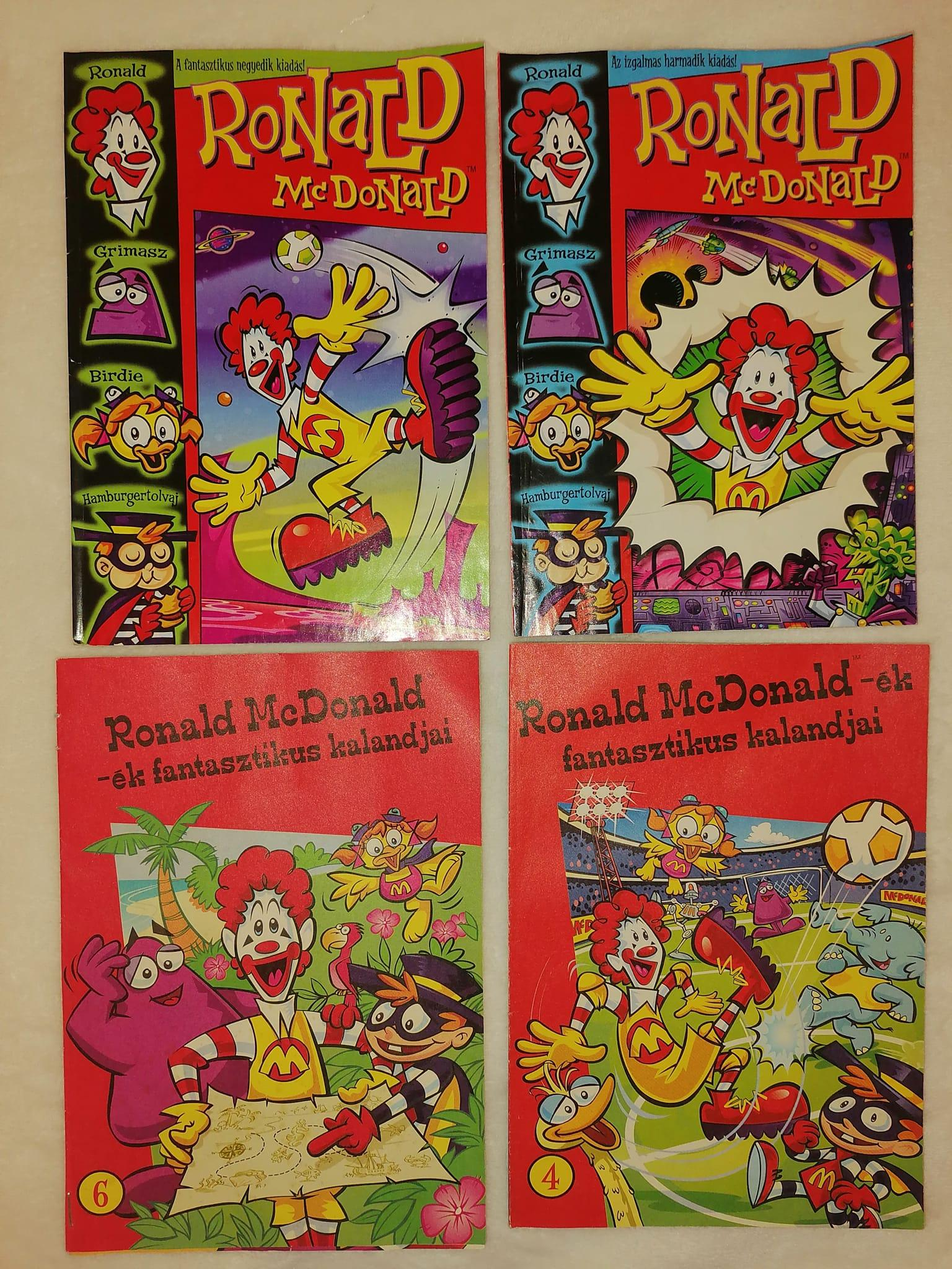comic: (64, 45, 493, 647), (58, 650, 485, 1253), (499, 38, 926, 637), (509, 643, 927, 1228)
